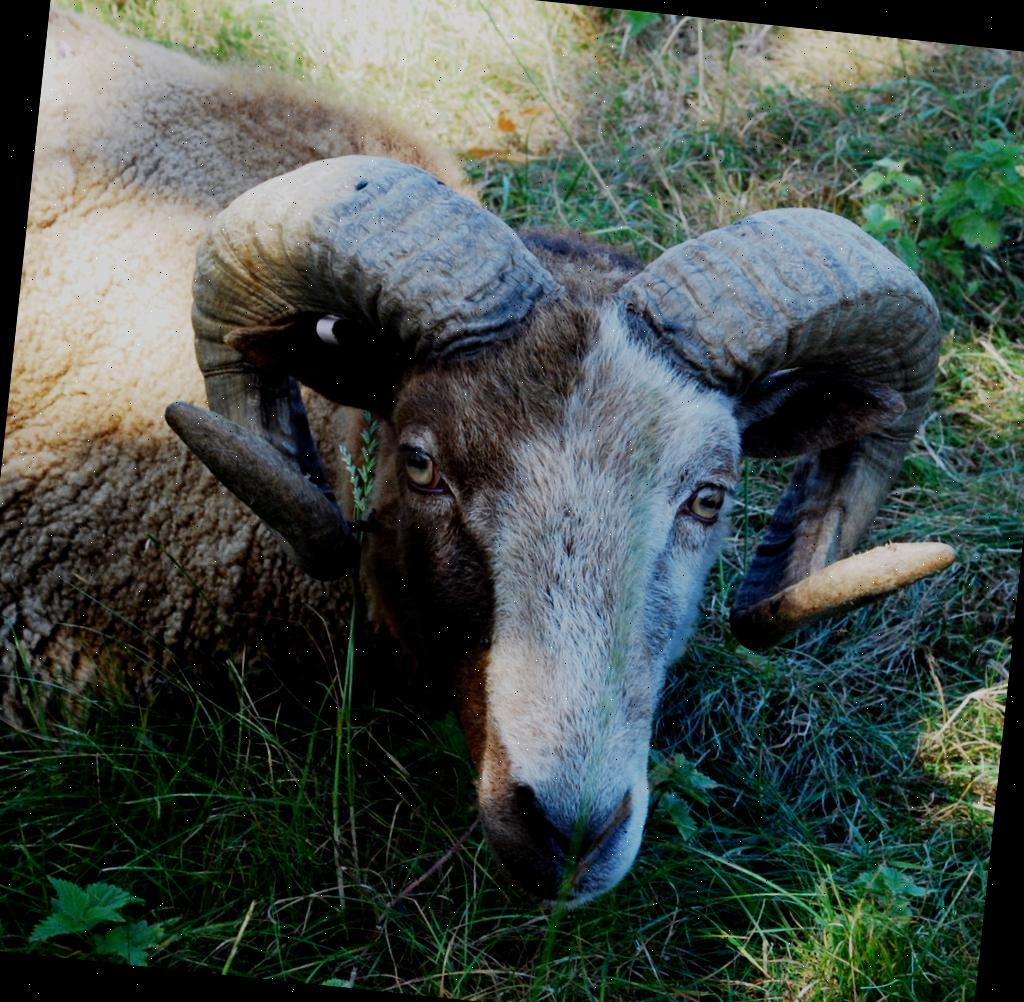Sheep: (0, 47, 992, 968)
